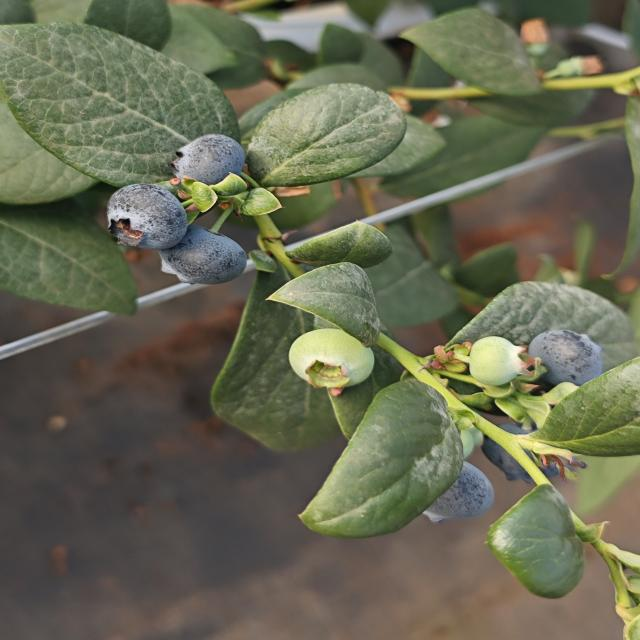ripe: (396, 450, 494, 529), (482, 410, 580, 482), (98, 180, 192, 251), (156, 222, 249, 288), (521, 320, 607, 390), (162, 130, 248, 190)
